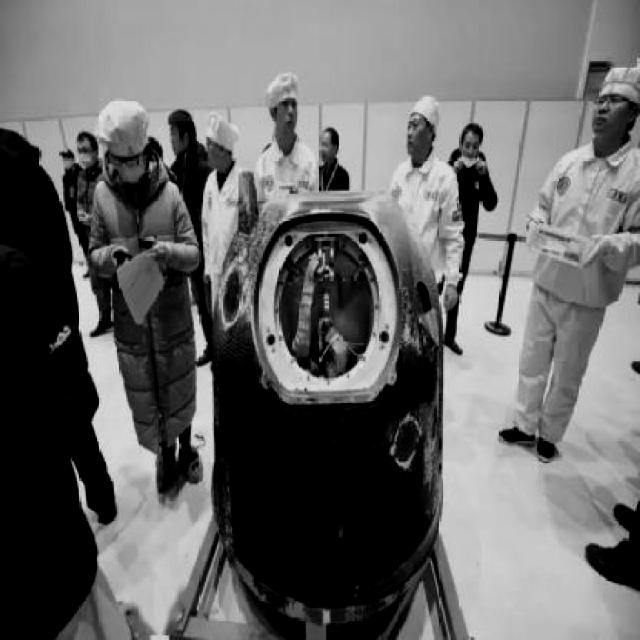face_mask: (109, 144, 146, 190), (72, 141, 94, 174)
face_nomask: (583, 96, 626, 144), (402, 110, 432, 148), (272, 101, 300, 132), (203, 140, 225, 175), (163, 128, 191, 154), (314, 138, 341, 162), (457, 140, 483, 162)
hand_glove: (582, 232, 612, 268), (445, 283, 460, 311)
hand_noglove: (146, 240, 171, 266), (108, 243, 128, 265), (477, 158, 488, 172), (454, 157, 464, 171)
head_nohelmet: (95, 98, 151, 138), (592, 63, 638, 95), (206, 117, 245, 148), (266, 70, 300, 102), (166, 106, 199, 128), (411, 95, 449, 114), (460, 117, 488, 137), (320, 120, 345, 140), (71, 128, 98, 143)
person: (514, 77, 640, 452), (89, 94, 191, 509), (369, 79, 468, 343), (439, 110, 506, 368), (197, 117, 243, 323), (252, 58, 316, 202), (166, 114, 206, 232), (311, 116, 357, 192)
shoes: (148, 442, 186, 502), (530, 424, 567, 468), (176, 437, 204, 486), (494, 420, 538, 446)
